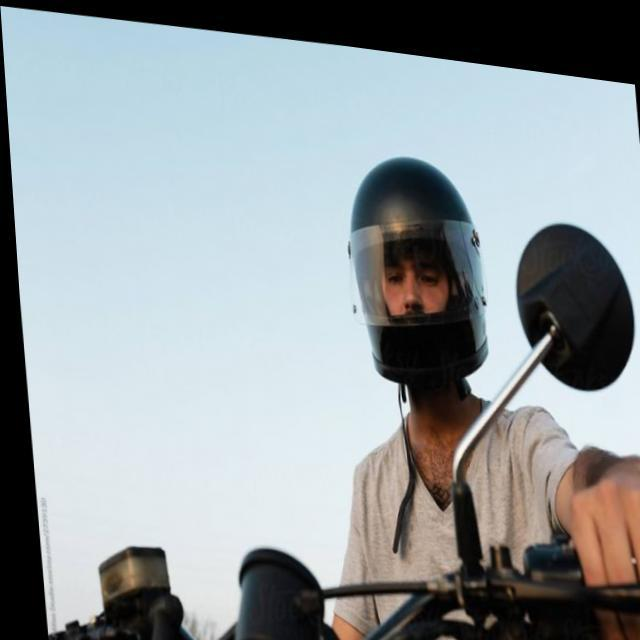Helmet: (342, 152, 493, 388)
